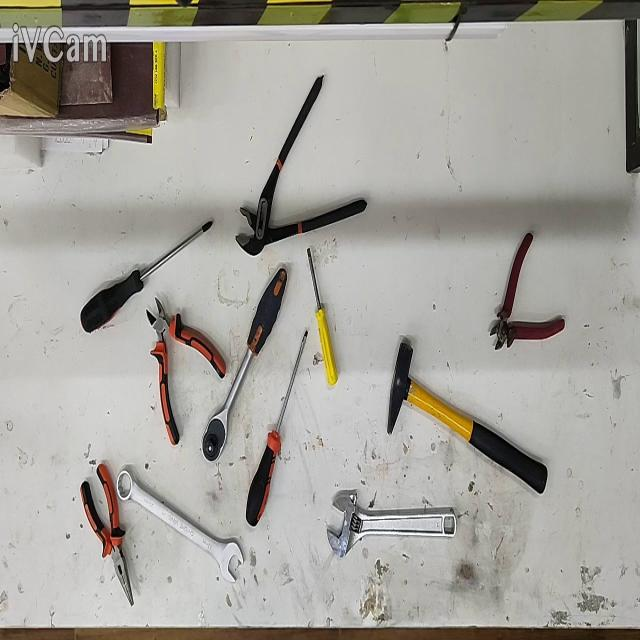Screwdriver: (80, 221, 212, 331), (245, 329, 309, 526), (307, 247, 338, 387)
